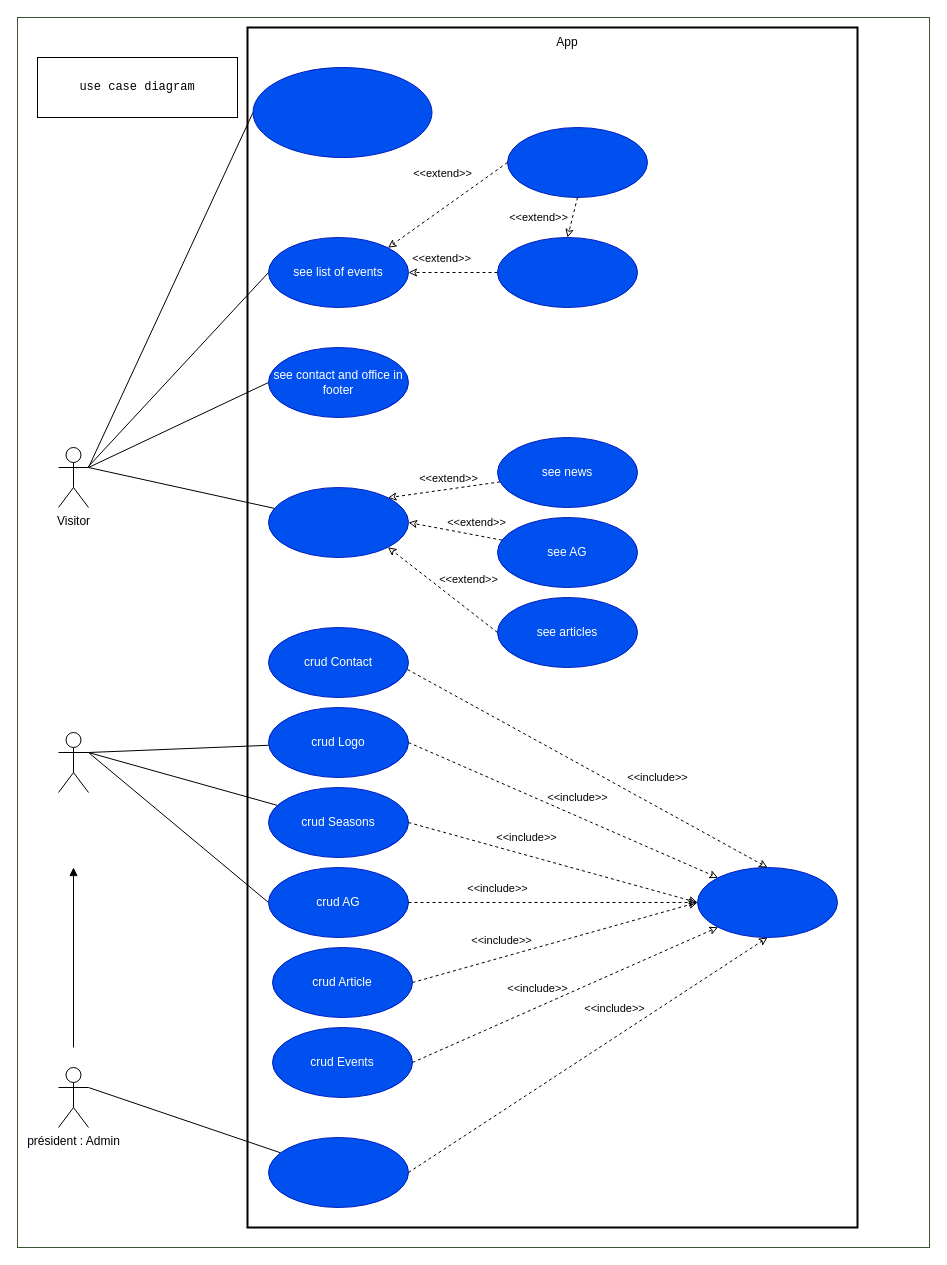
Some shapes in this 947 by 1265 pixel diagram are drawn without their labels. The shapes that lost their labels are listed below. From the top down, each one's centre as x and y in pixels, then its label:
(342,112): see legal notices and privacy policy
(577,162): see details events
(567,272): see old events
(338,522): see Home page
(73,762): membre, secrétaire, trésorier : User
(767,902): log in
(338,1172): create user
